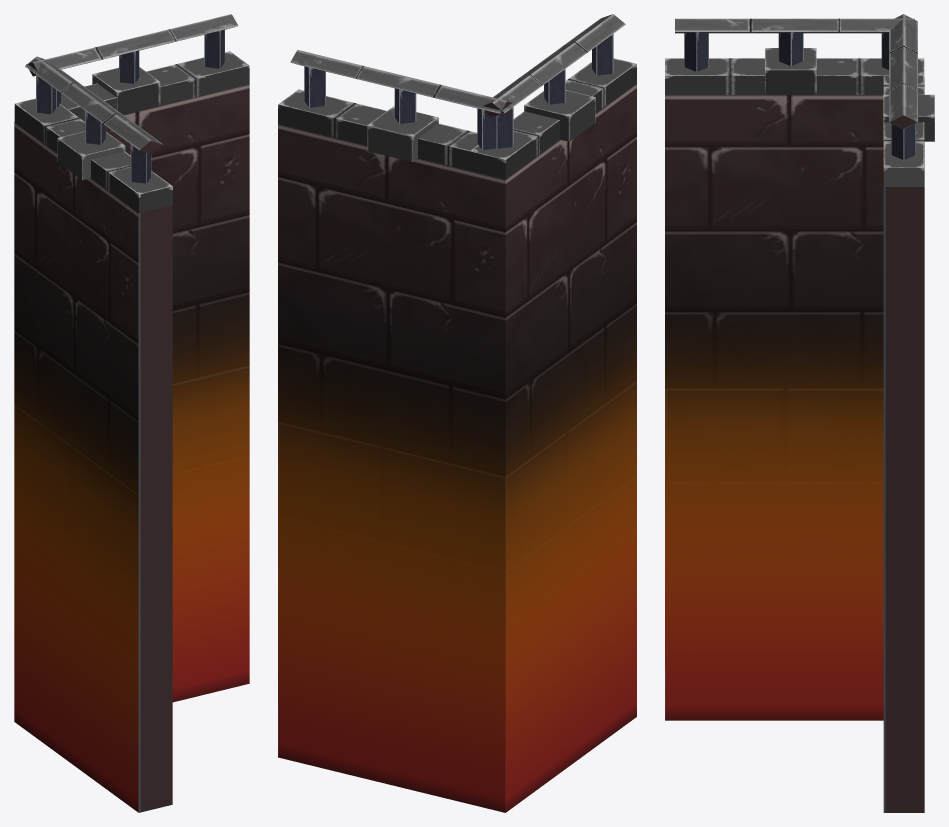
The model's file is Lava Edge Inner.FBX.
3 views of the same model, side by side, from view 1: azimuth 30°, elevation 25°; view 2: azimuth 150°, elevation 25°; view 3: azimuth 270°, elevation 25° (orthographic). The views are drawn at different scales.
Parts seen in each view (by area): view 1: outer_corner012, outer_corner011, outer_corner_rand011, outer_corner_rand010; view 2: outer_corner011, outer_corner012, outer_corner_rand010, outer_corner_rand011; view 3: outer_corner012, outer_corner011, outer_corner_rand011, outer_corner_rand010.
Part boxes in pixels (box(x1,y1,x2,y2)): outer_corner012: box(14, 56, 172, 812); outer_corner011: box(26, 14, 249, 702); outer_corner_rand011: box(14, 98, 172, 212); outer_corner_rand010: box(60, 51, 249, 121); outer_corner011: box(278, 50, 512, 812); outer_corner012: box(483, 14, 636, 812); outer_corner_rand010: box(278, 89, 505, 179); outer_corner_rand011: box(470, 58, 636, 178); outer_corner012: box(665, 18, 924, 720); outer_corner011: box(883, 14, 924, 812); outer_corner_rand011: box(665, 48, 924, 94); outer_corner_rand010: box(883, 75, 934, 186).
Size of the model in its own units: 52.13 by 148 by 52.11.
